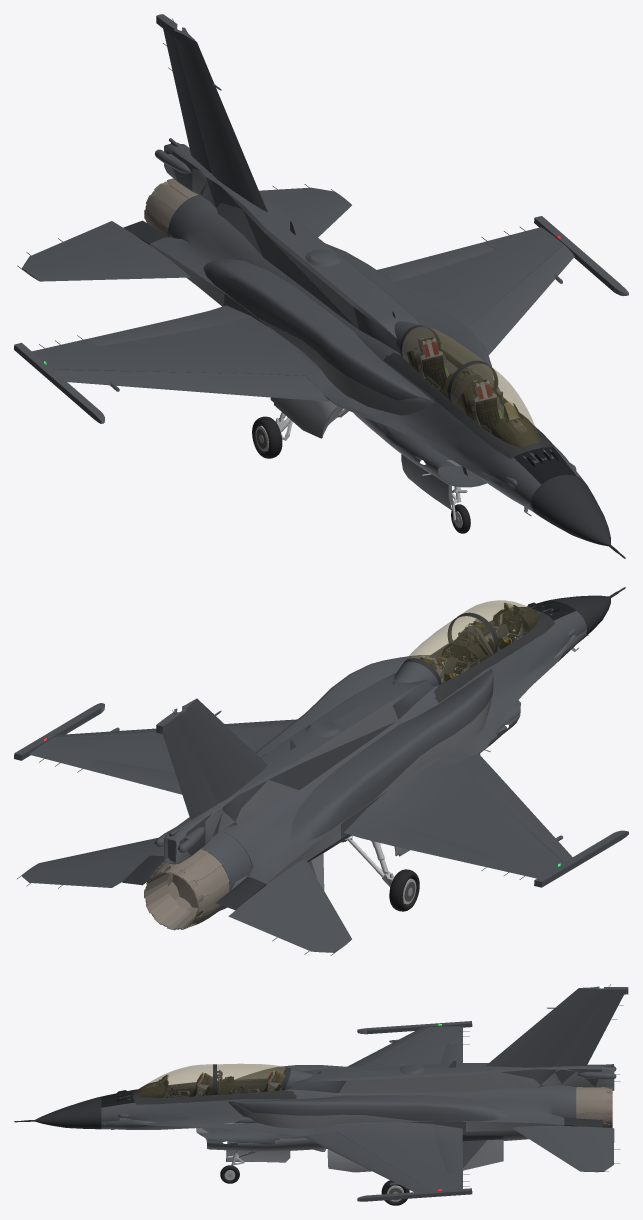
The model's file is product.glb.
3 renders of one model, top to bottom at view 1: azimuth 30°, elevation 25°; view 2: azimuth 150°, elevation 25°; view 3: azimuth 270°, elevation 25°, orthographic. The views are drawn at different scales.
Visible parts, largest first — view 1: conformal_tanks, fuselage, wing_r, canopy, wing_l, horizontal_tail_r, vertical_tail, cockpit, lef_r, radome, lef_l, main_gear_r (+7 smaller); view 2: conformal_tanks, fuselage, wing_r, canopy, horizontal_tail_r, wing_l, vertical_tail, engine_nozzle, horizontal_tail_l, cockpit, flaperon_r, lef_r (+6 smaller); view 3: conformal_tanks, fuselage, wing_l, canopy, vertical_tail, horizontal_tail_l, wing_r, cockpit, lef_l, rudder, intake, radome (+7 smaller).
Part boxes in pixels (x1,y1,x2,y2): conformal_tanks: [155, 138, 493, 415]; fuselage: [39, 194, 583, 516]; wing_r: [14, 317, 354, 423]; canopy: [383, 325, 554, 458]; wing_l: [395, 216, 628, 327]; horizontal_tail_r: [17, 221, 190, 281]; vertical_tail: [156, 14, 267, 211]; cockpit: [402, 327, 540, 448]; lef_r: [53, 369, 329, 401]; radome: [531, 474, 625, 558]; lef_l: [468, 244, 574, 355]; main_gear_r: [252, 397, 348, 458]; conformal_tanks: [154, 655, 493, 864]; fuselage: [39, 601, 588, 910]; wing_r: [371, 735, 628, 887]; canopy: [402, 600, 555, 702]; horizontal_tail_r: [228, 859, 351, 955]; wing_l: [14, 703, 287, 772]; vertical_tail: [156, 698, 267, 802]; engine_nozzle: [144, 849, 229, 930]; horizontal_tail_l: [17, 838, 157, 888]; cockpit: [420, 602, 540, 683]; flaperon_r: [344, 809, 494, 866]; lef_r: [457, 754, 572, 862]; conformal_tanks: [228, 1061, 616, 1128]; fuselage: [101, 1031, 576, 1186]; wing_l: [288, 1124, 472, 1201]; canopy: [132, 1063, 296, 1104]; vertical_tail: [486, 984, 628, 1067]; horizontal_tail_l: [511, 1125, 620, 1172]; wing_r: [357, 1021, 472, 1066]; cockpit: [136, 1070, 285, 1097]; lef_l: [305, 1131, 431, 1192]; rudder: [554, 994, 628, 1066]; intake: [187, 1127, 274, 1151]; radome: [14, 1096, 101, 1129].
Bounding box in the file's own units: 9.88 × 5.41 × 15.12.
Materials: 32 (7 with a texture image).
